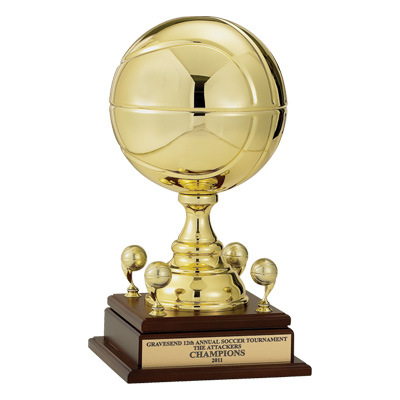trophy: (85, 9, 313, 385)
